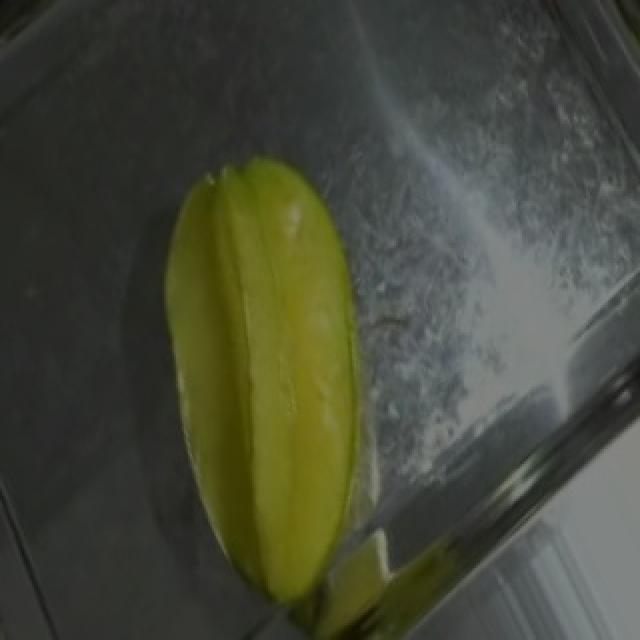fruit: (148, 132, 450, 576)
